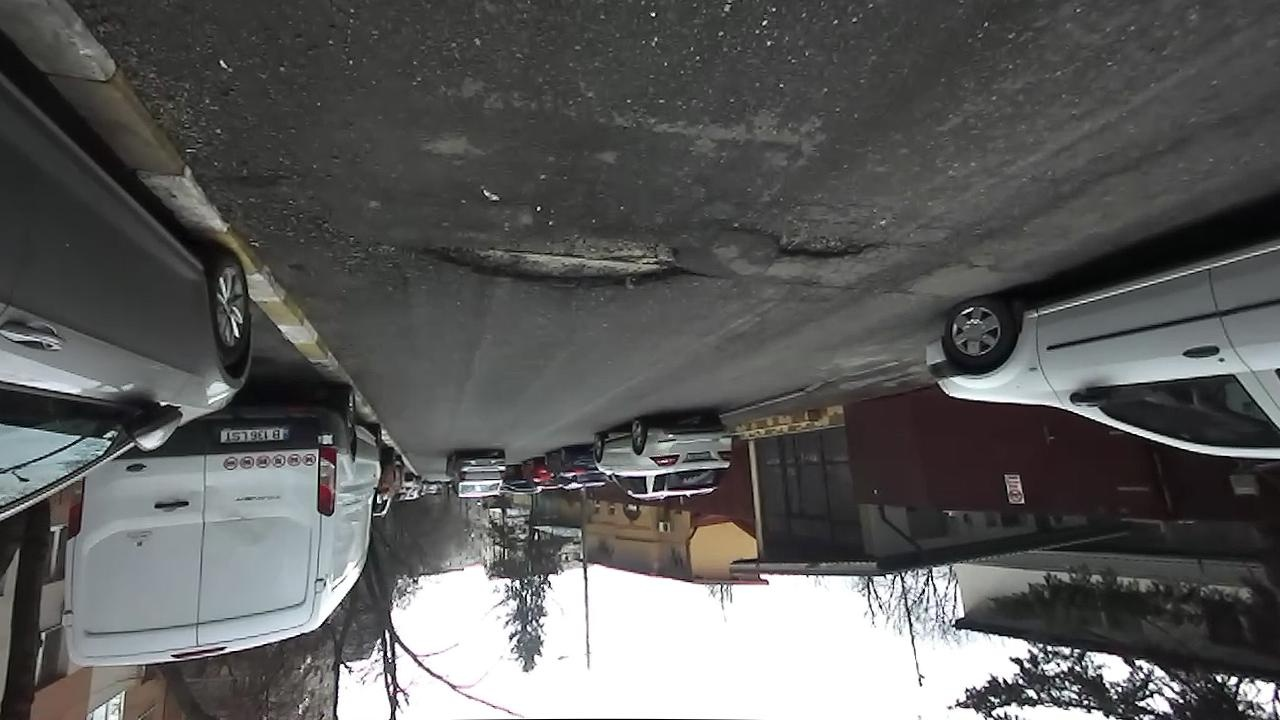pothole: (391, 220, 695, 296), (723, 214, 890, 264)
